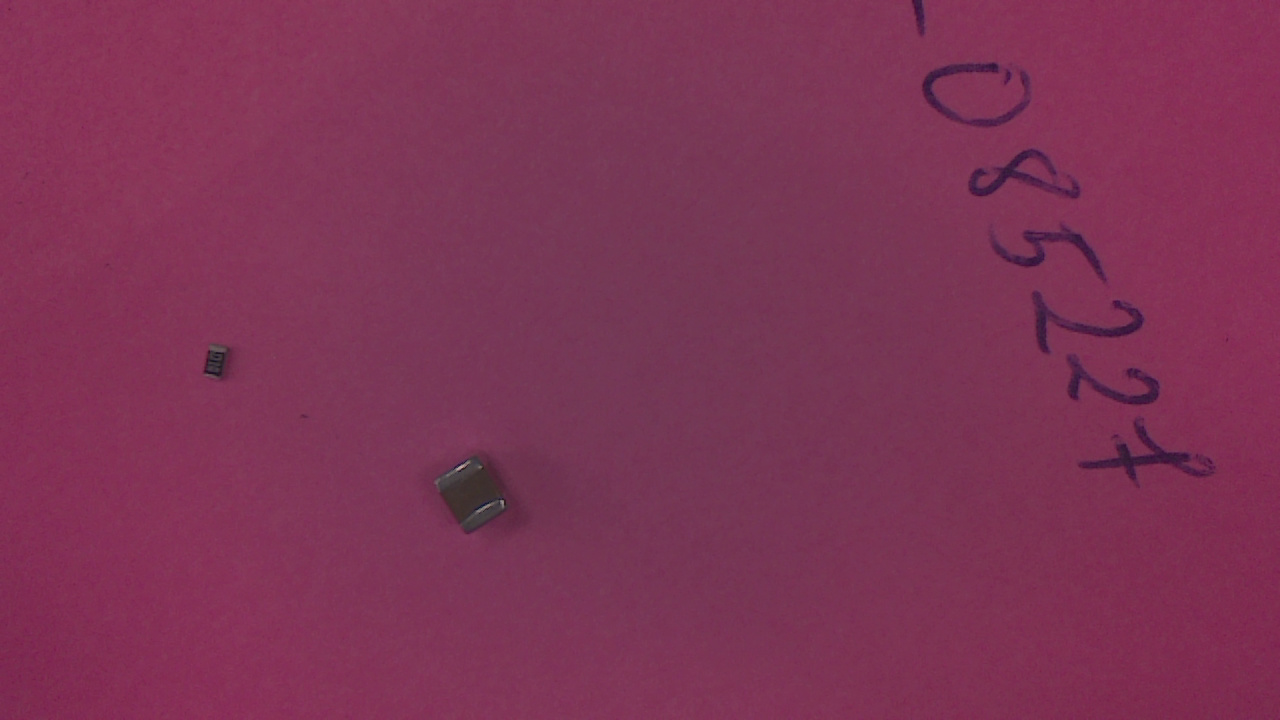Condensator: (435, 458, 518, 541)
Resistor: (203, 347, 239, 386)
